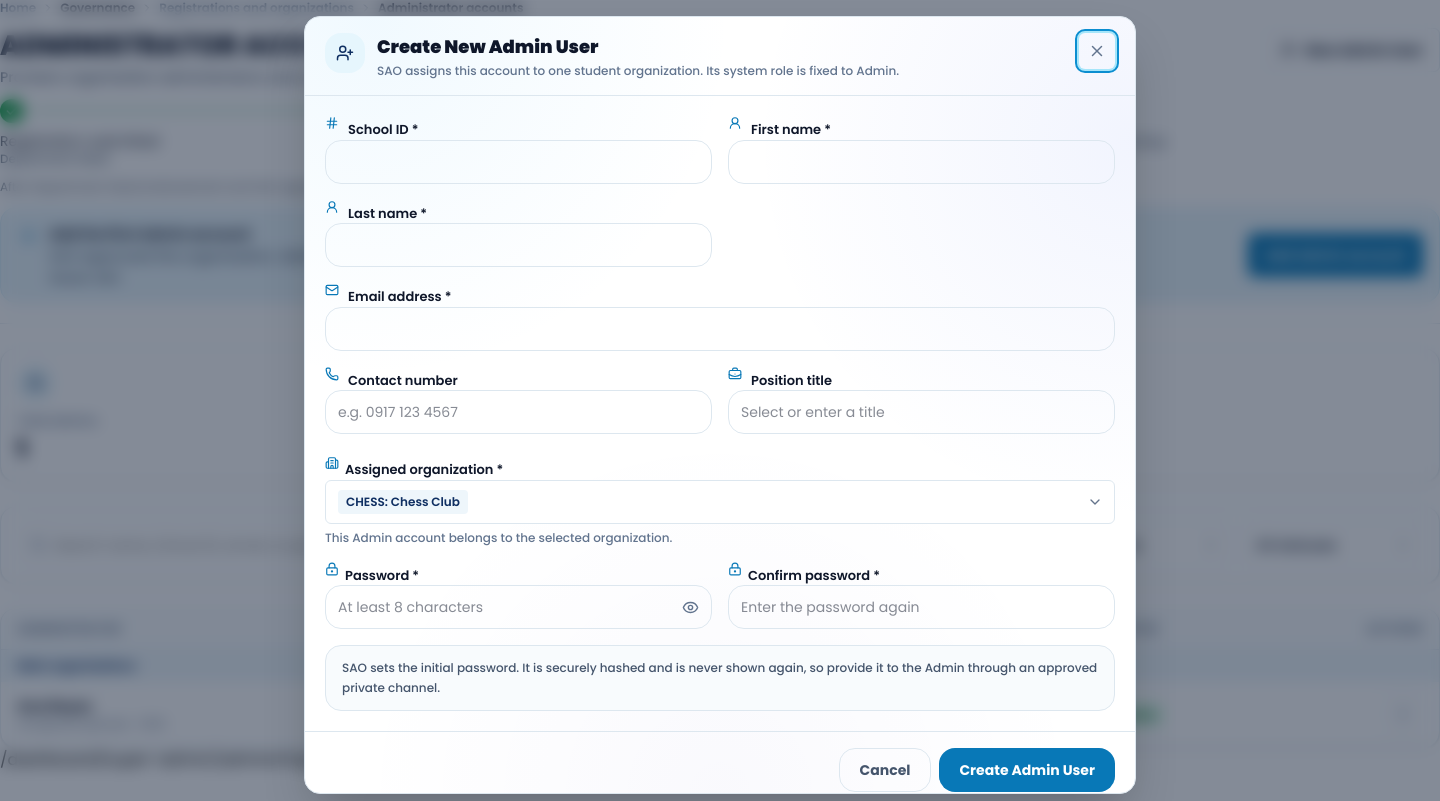
it: SystemAdminsPage › provisioning from an approved registration › creates the administrator for the locked organization and then says the administrator can sign in
Type "20260001" into the number field labelled "School ID *" at (518, 162), box [325,140,712,184]
Type "Maria" into the field labelled "First name *" at (922, 162), box [728,140,1115,184]
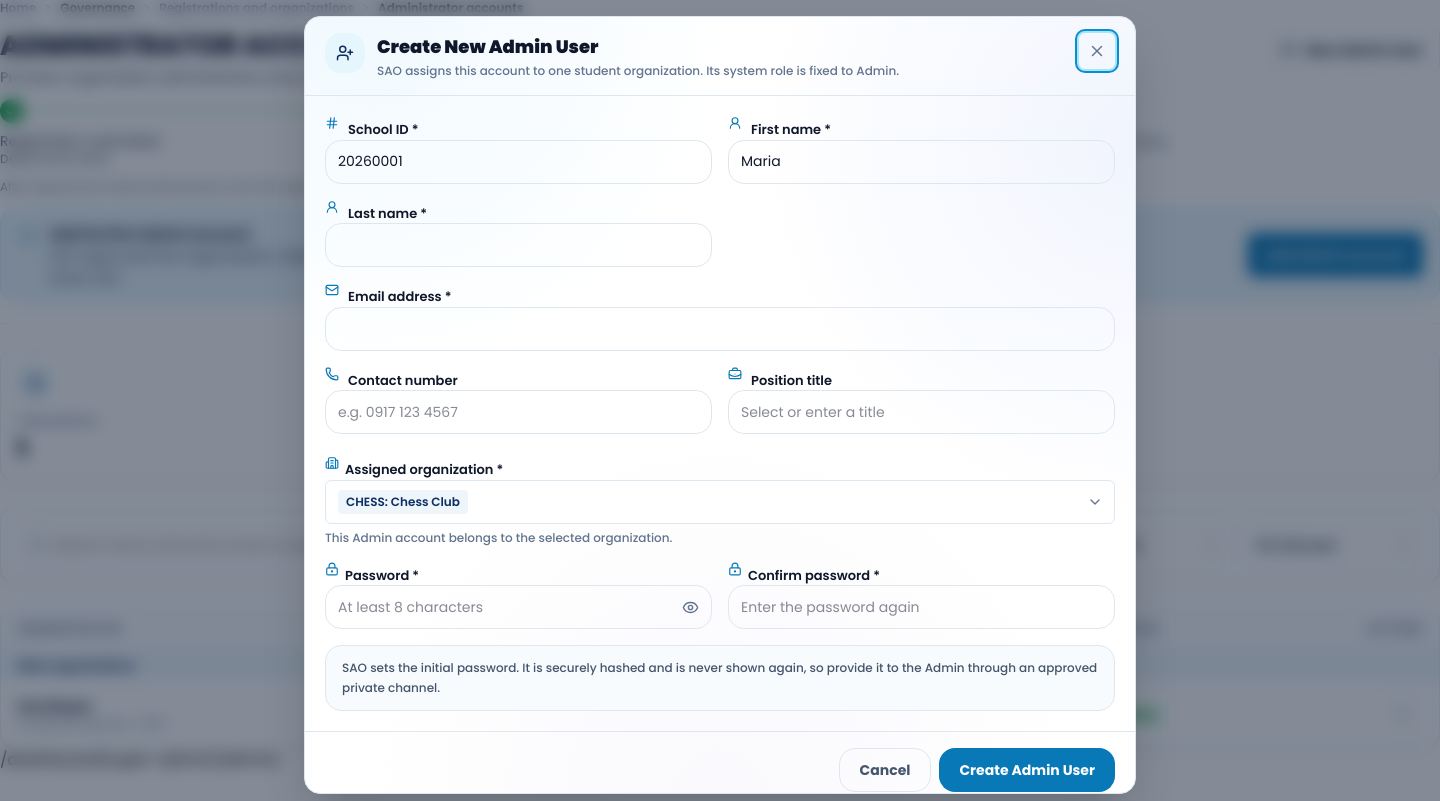
Type "Santos" into the field labelled "Last name *" at (518, 245), box [325,223,712,267]
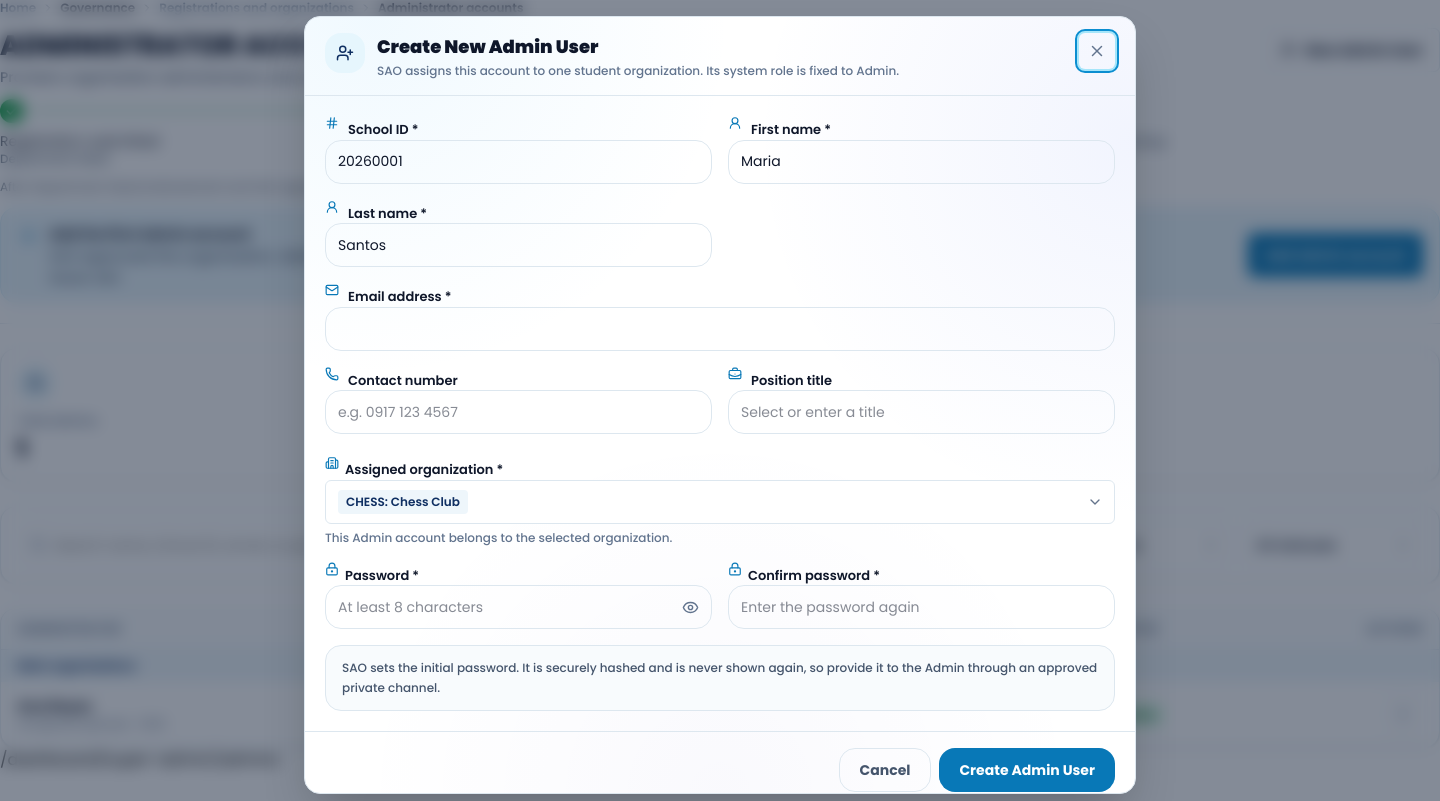
Type "MARIA@example.test" into the field labelled "Email address *" at (720, 328), box [325,306,1115,350]
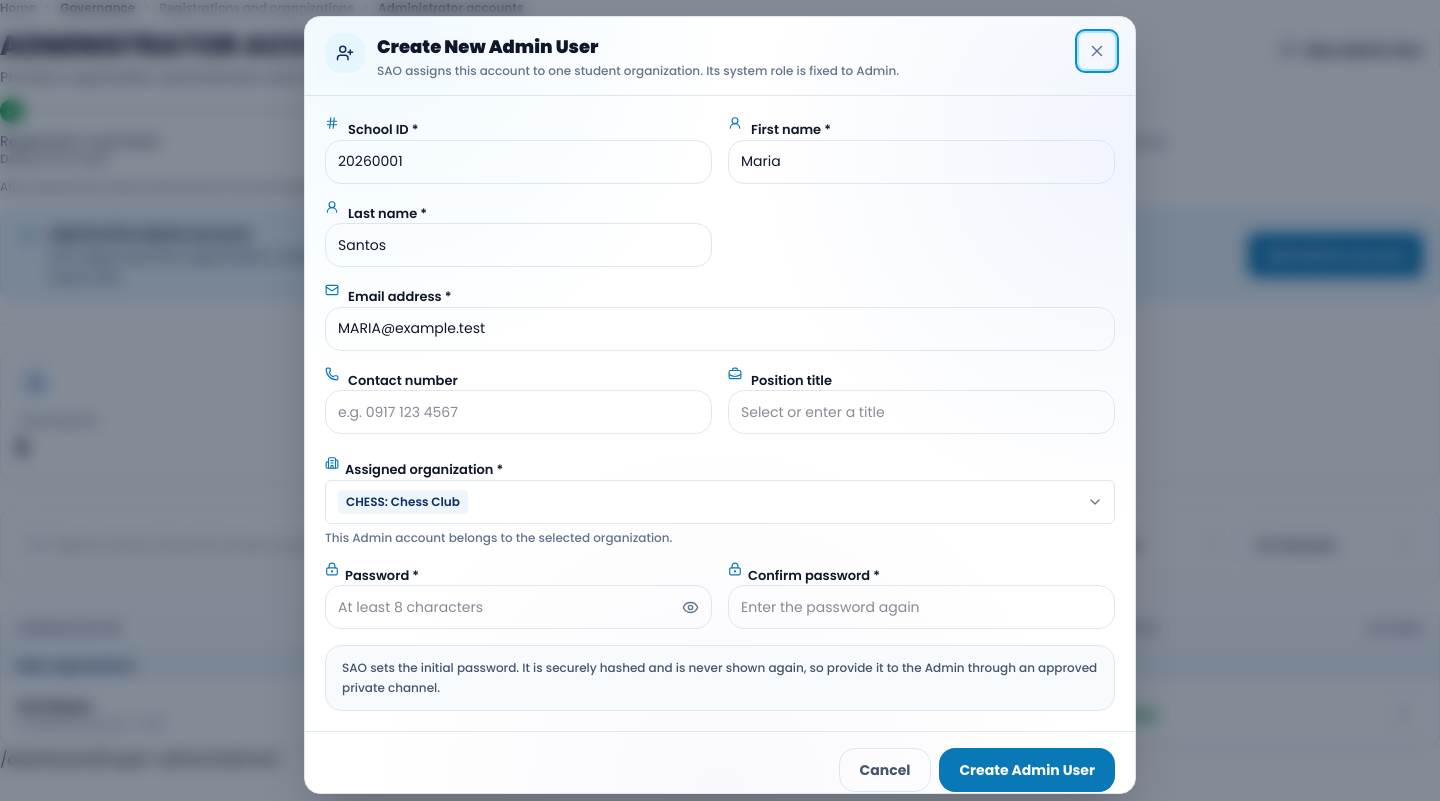
Type "Initial-Password-123!" into the password field labelled "Password *" at (518, 607), box [325,585,712,629]
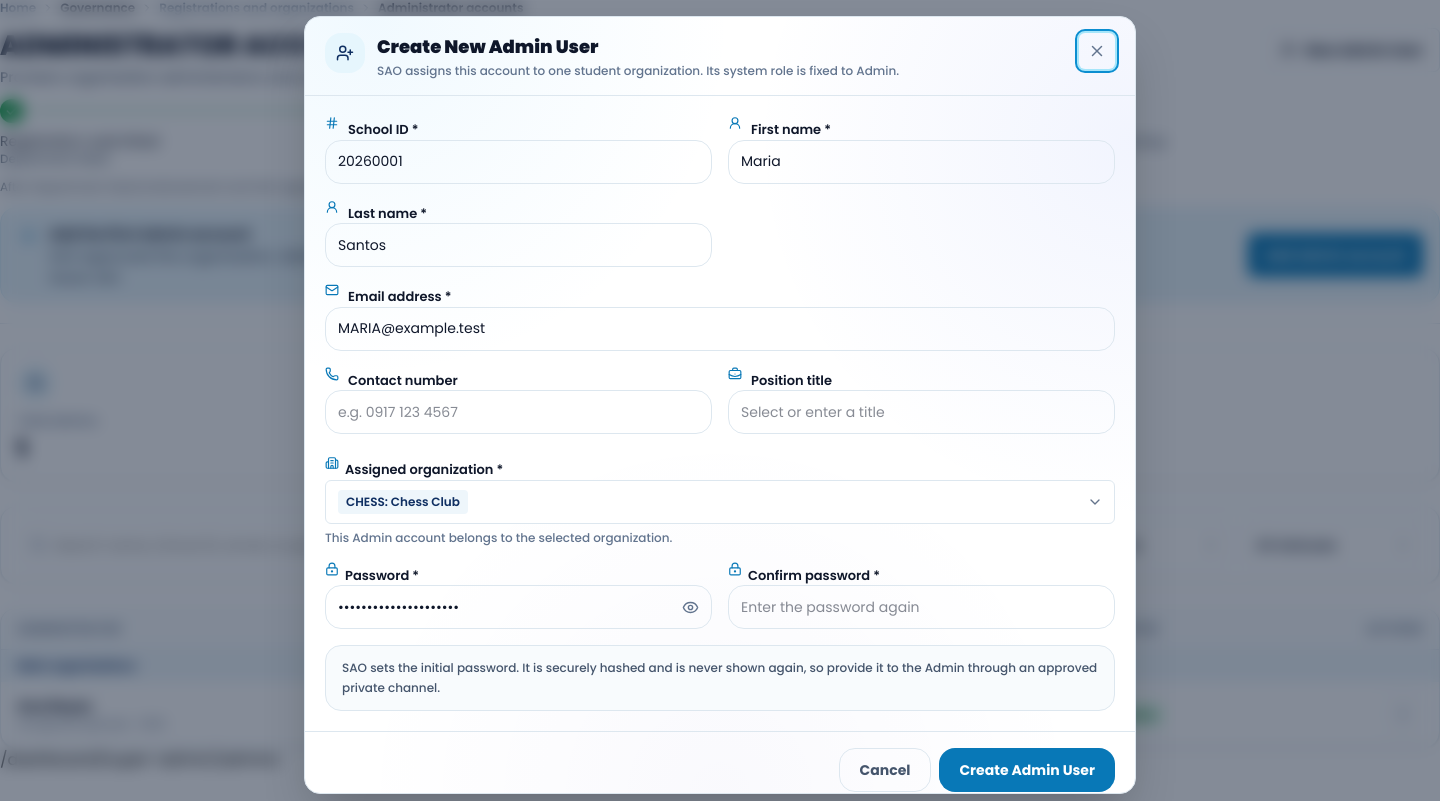
Type "Initial-Password-123!" into the password field labelled "Confirm password *" at (922, 607), box [728,585,1115,629]
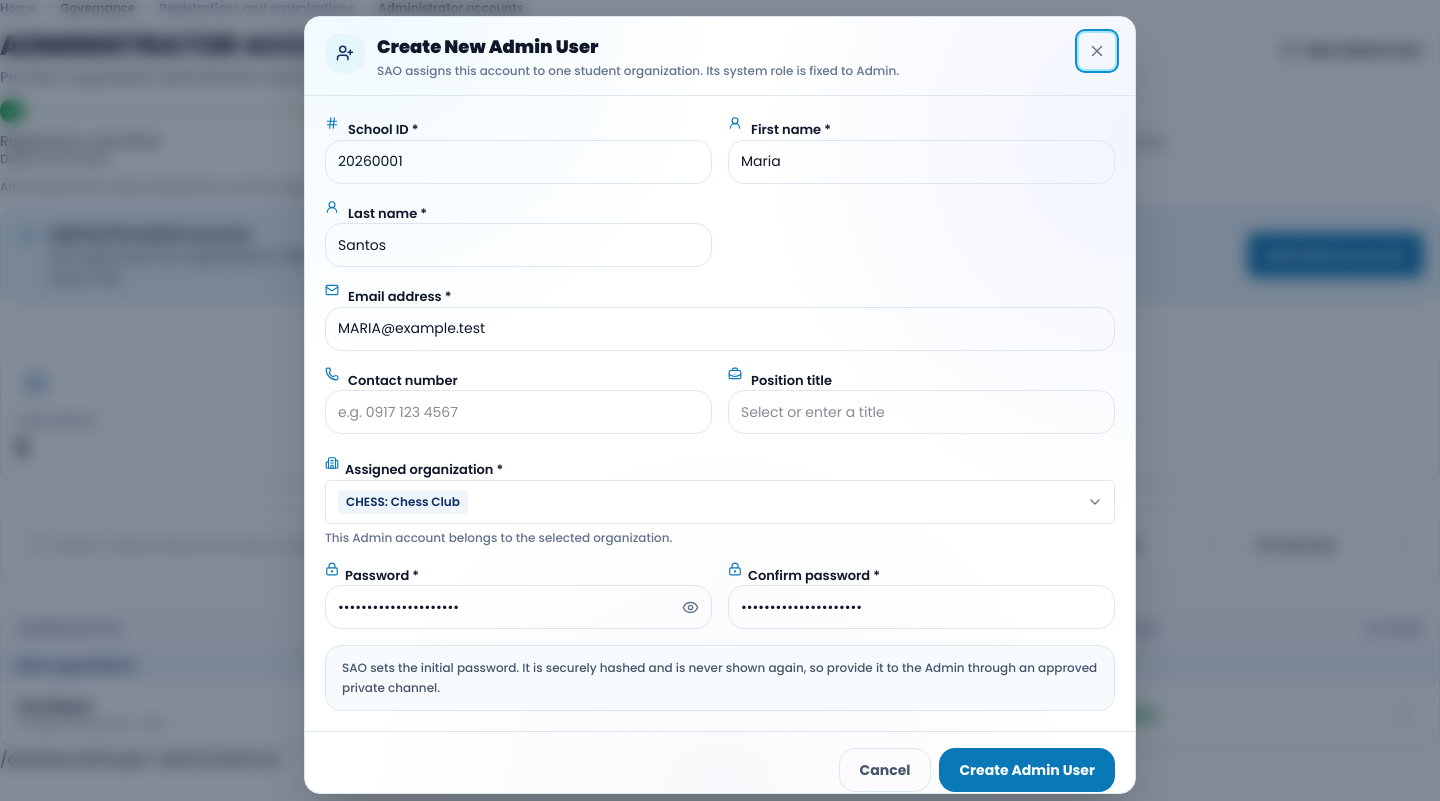
Click the button "Create Admin User" at (1027, 770), box [939,748,1115,792]
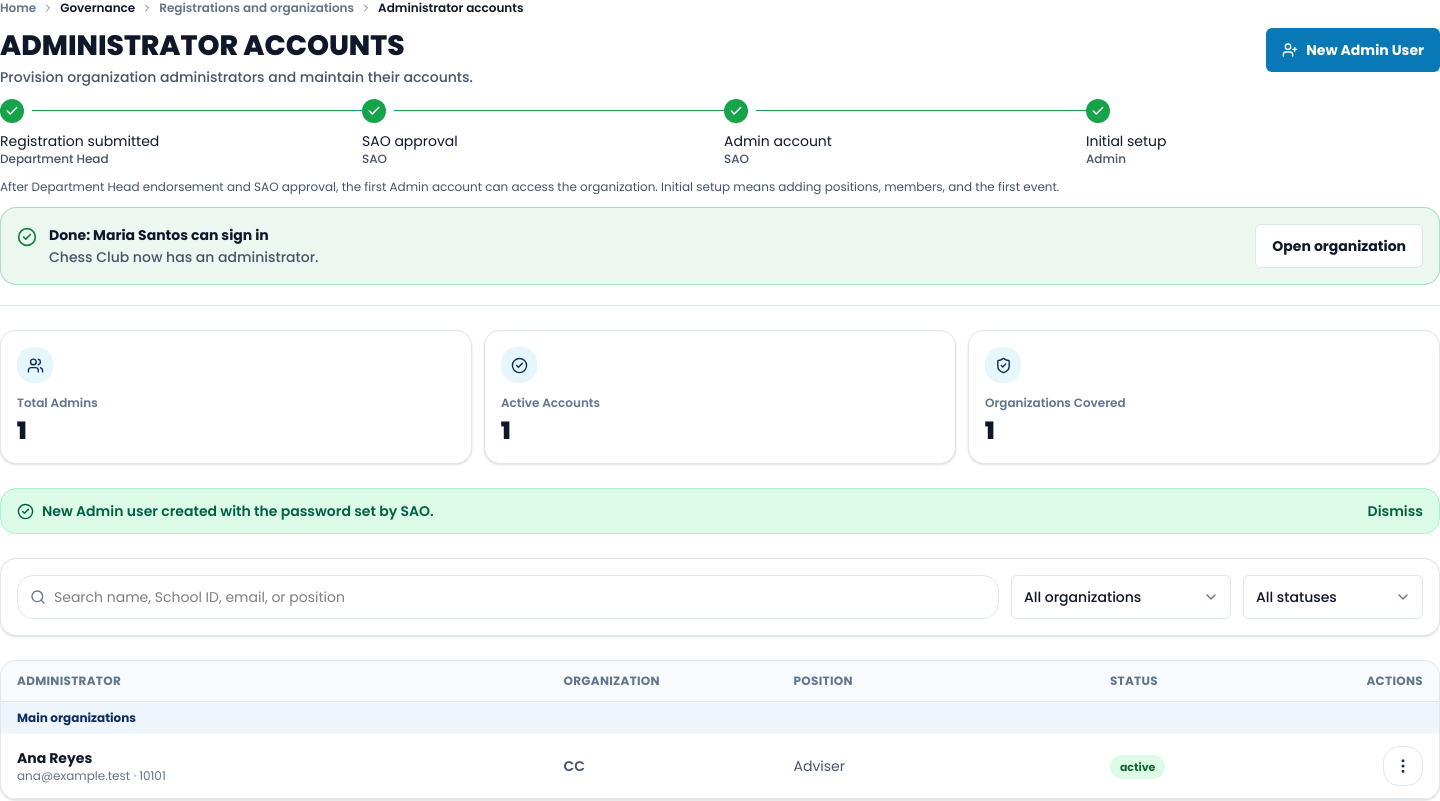
Check: the text "Current step" is not shown
Check: the text "Done: Maria Santos can sign in" is shown, box [49,225,269,245]
Check: the text "Chess Club now has an administrator." is shown, box [49,247,318,267]
